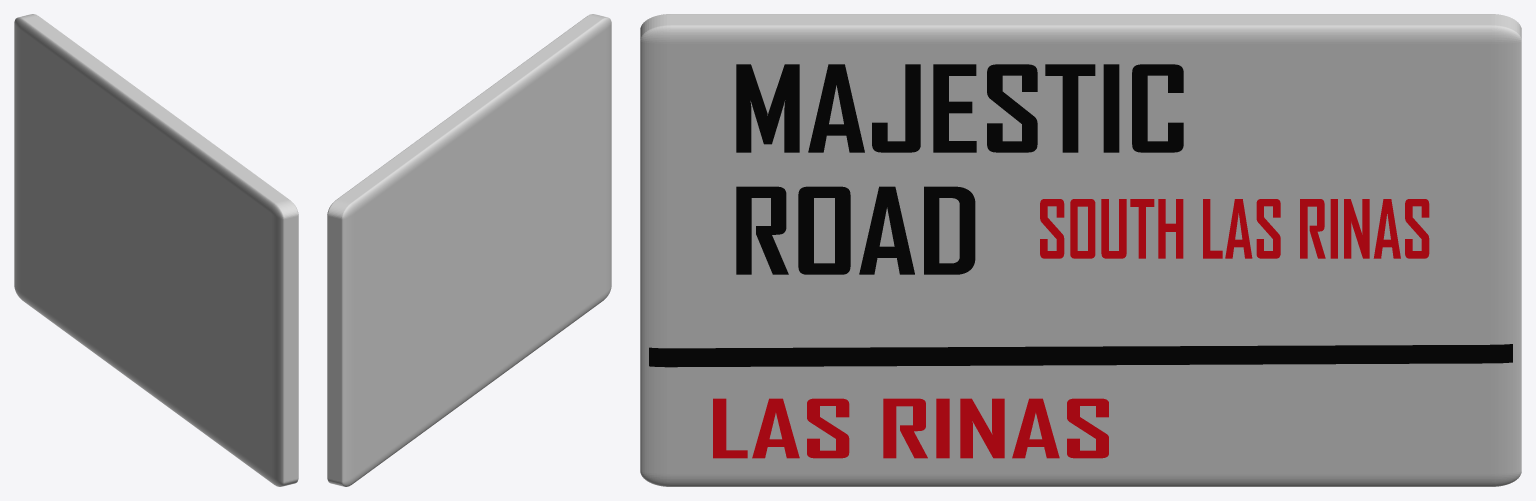
Rendered from las_rinas_sign_1.fbx.
3 renders of one model, left to right at view 1: azimuth 30°, elevation 25°; view 2: azimuth 150°, elevation 25°; view 3: azimuth 270°, elevation 25°, orthographic. The views are drawn at different scales.
Visible parts, largest first — view 1: Cube; view 2: Cube; view 3: Cube, Text, Text.001, Text.002, Text.003.
Boxes of the visible parts, x1,y1,x2,y2 form: Cube: [14, 14, 298, 486]; Cube: [327, 14, 611, 486]; Cube: [640, 14, 1521, 486]; Text: [736, 64, 1183, 152]; Text.001: [736, 186, 975, 274]; Text.002: [713, 398, 1108, 458]; Text.003: [1040, 199, 1429, 258].
Size of the model in its own units: 1.63 by 20.07 by 34.74.
